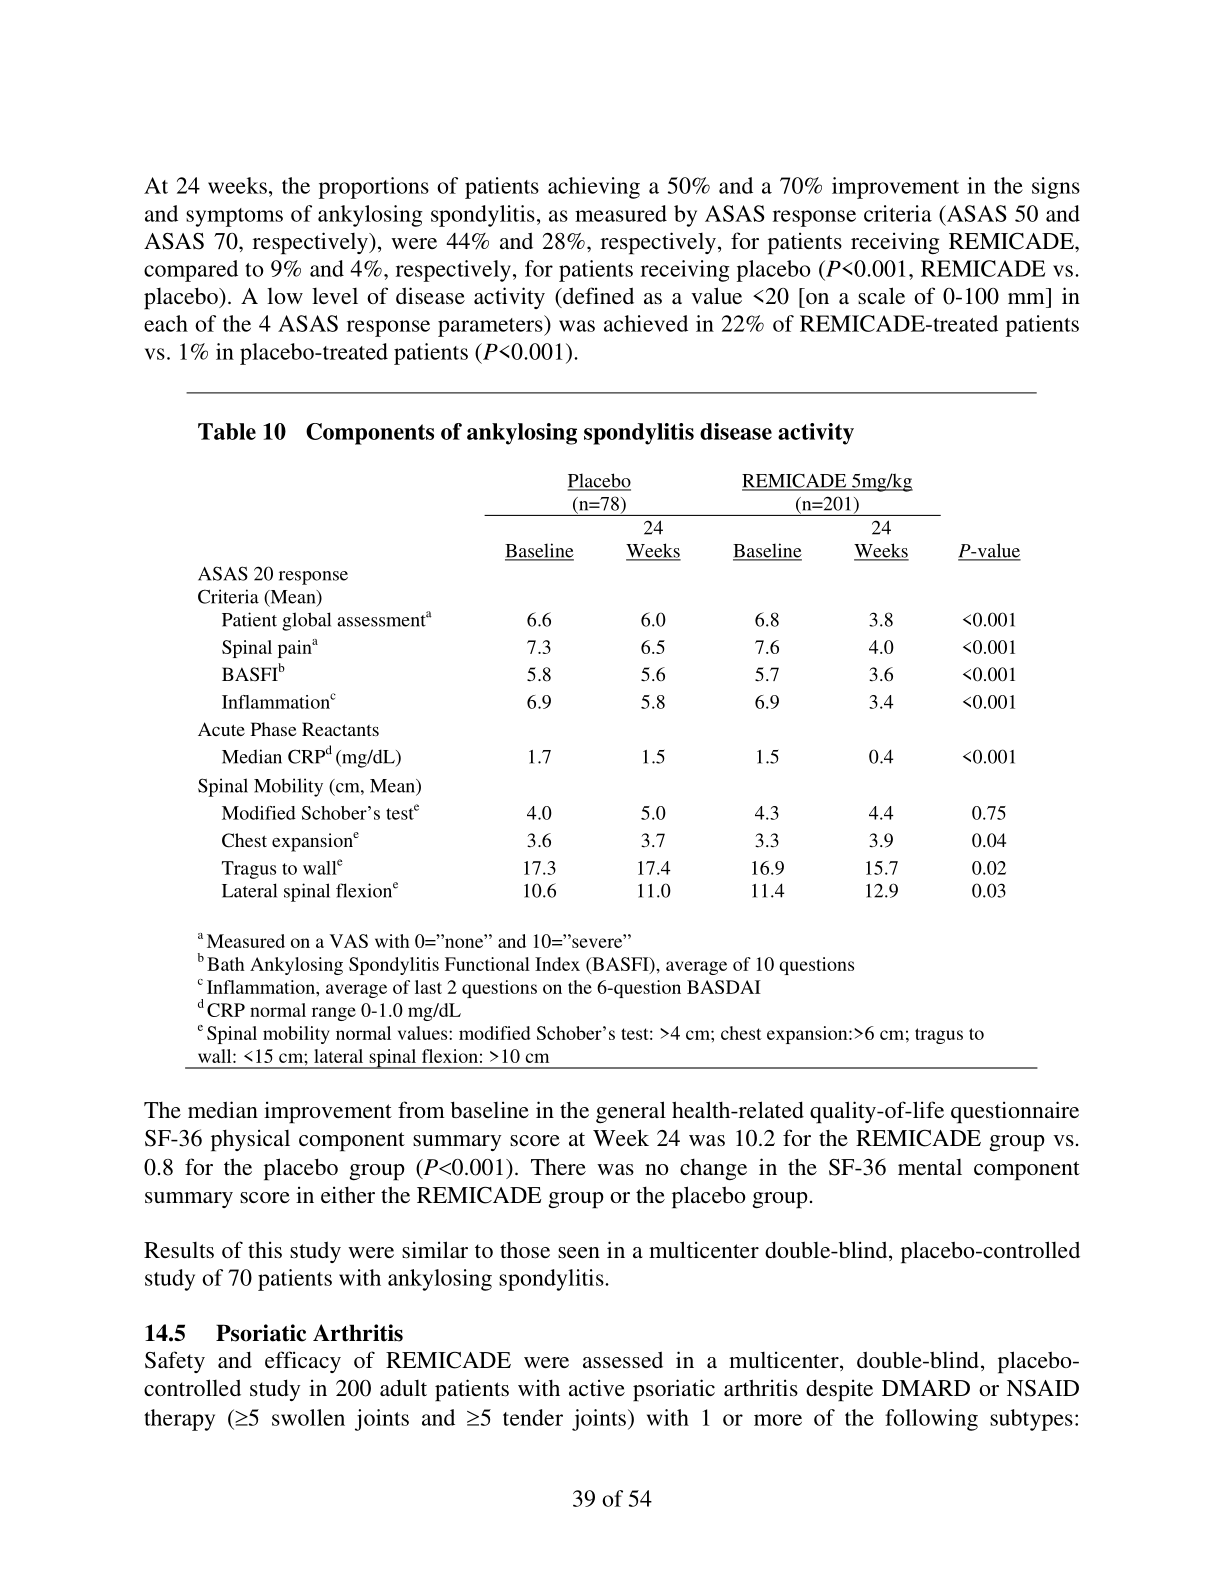partial_lined_merged_cells: (189, 462, 1027, 906)
